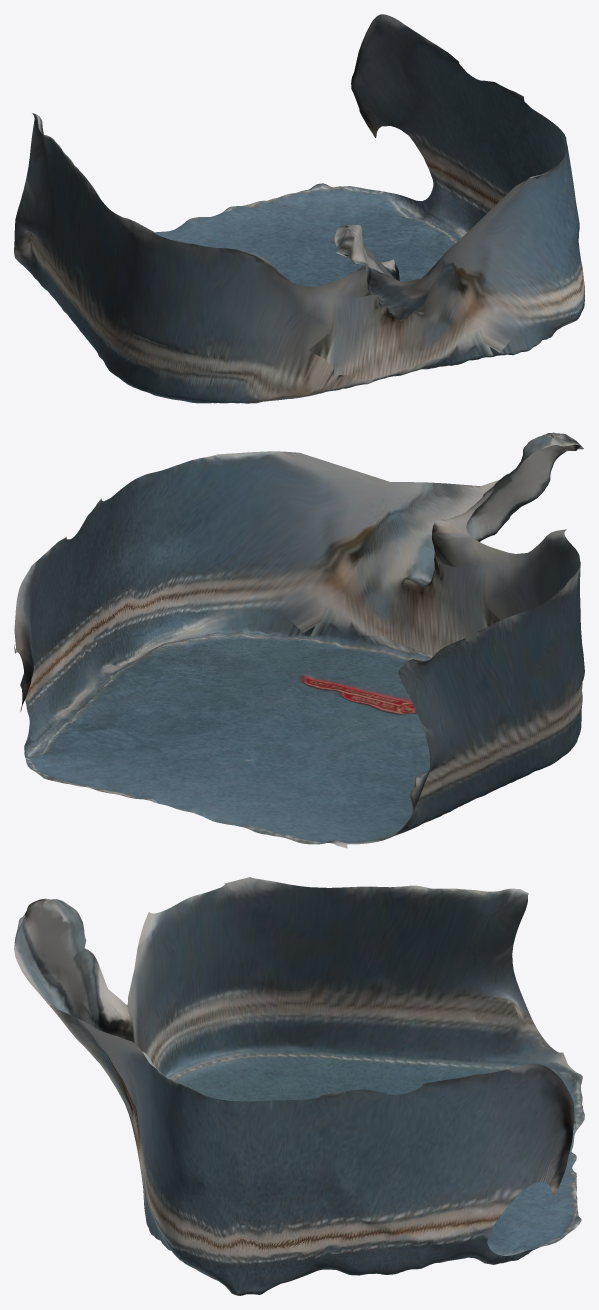
Rendered from sculpt.obj.
3 views of the same model, one above another, from view 1: azimuth 30°, elevation 25°; view 2: azimuth 150°, elevation 25°; view 3: azimuth 270°, elevation 25° (orthographic). The views are drawn at different scales.
Bounding box in the file's own units: 31.28 × 15.42 × 33.66.
